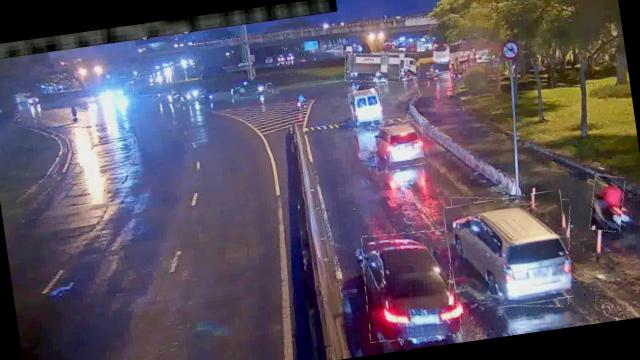Bike: (585, 173, 629, 234)
Bus: (348, 88, 384, 122)
Car: (438, 185, 580, 318), (442, 189, 576, 314), (358, 226, 466, 345), (369, 118, 426, 172)
Truck: (342, 48, 402, 86), (372, 48, 422, 80)
